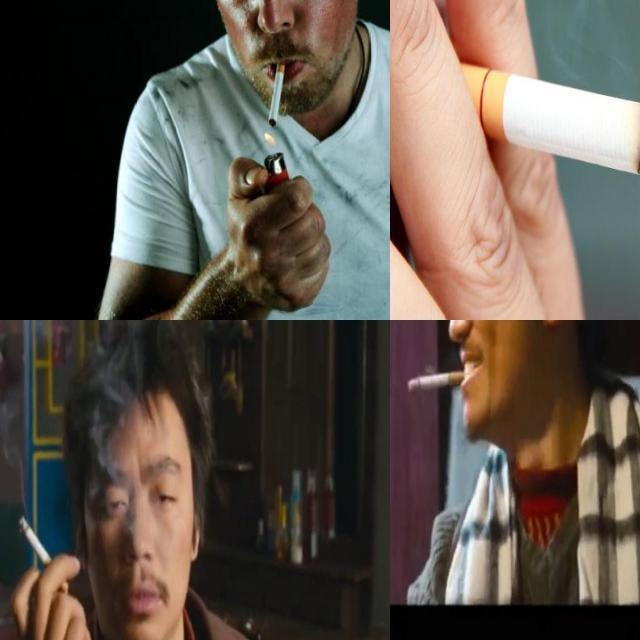cigarette: (390, 35, 640, 189), (17, 508, 72, 596), (267, 58, 287, 130), (408, 368, 466, 391)
